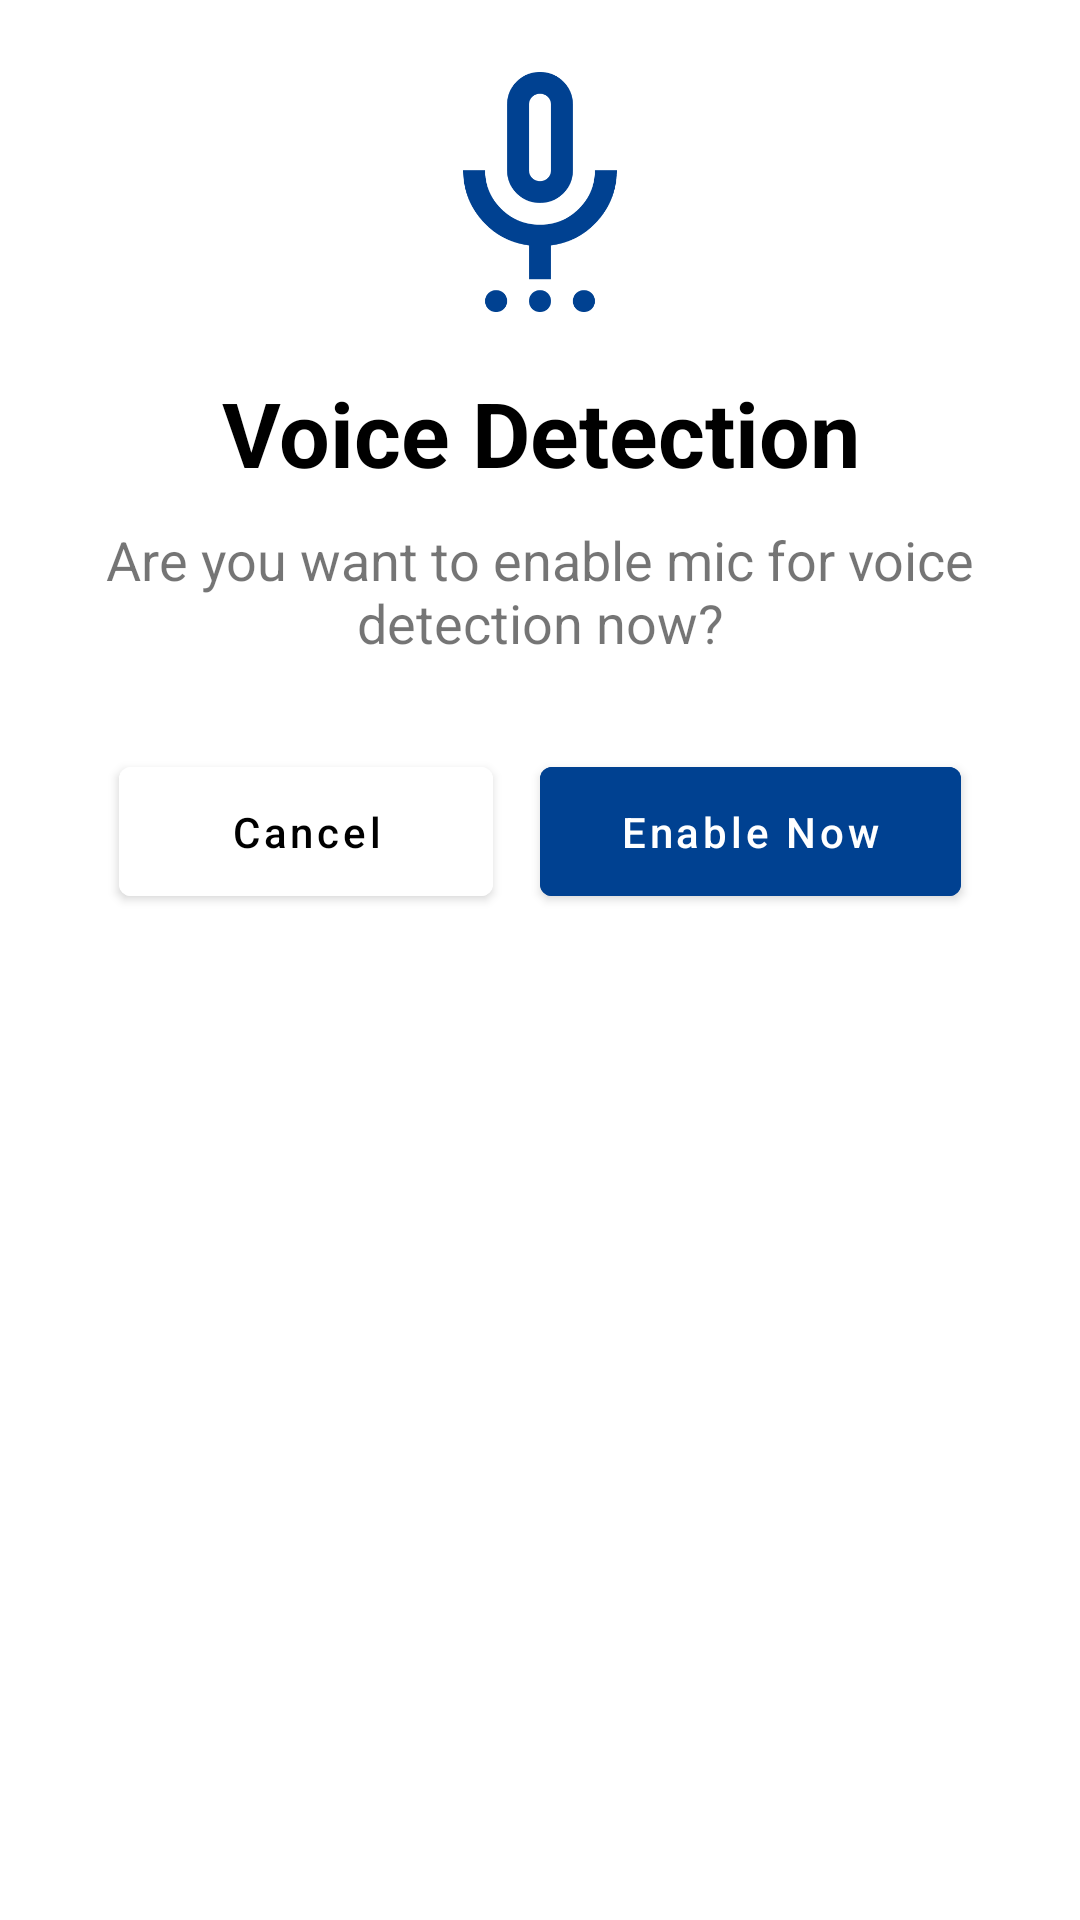

Icons on this 1080x1920 Android screen, each with the point to tap as (x,y):
mic: (540,192)
